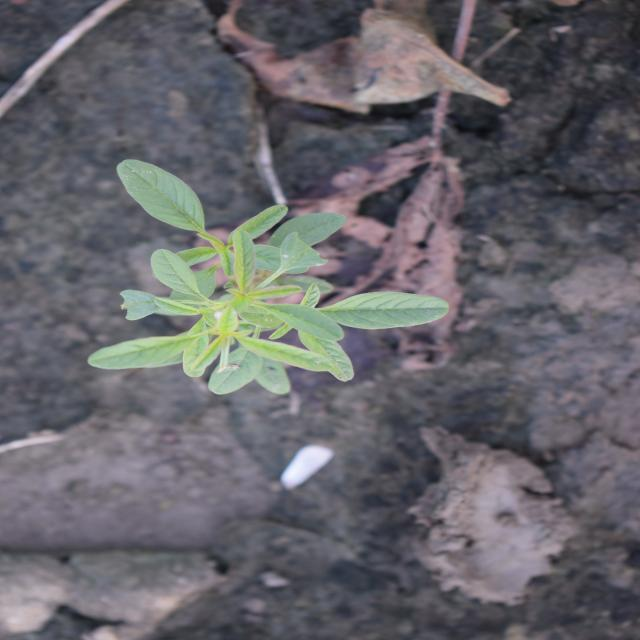Waterhemp: (85, 155, 455, 396)
